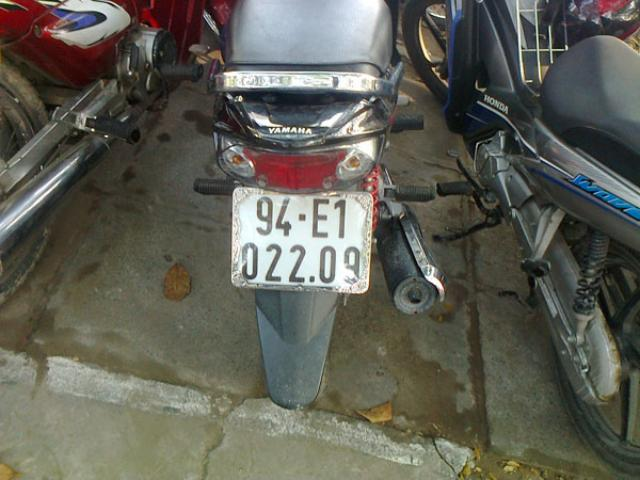plate: (236, 189, 364, 291)
